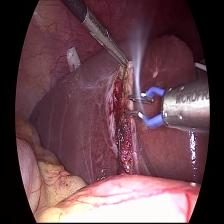Bipolar: (126, 85, 173, 134)
Grasper: (82, 12, 130, 72)
Specimen Bag: (61, 47, 84, 75)
